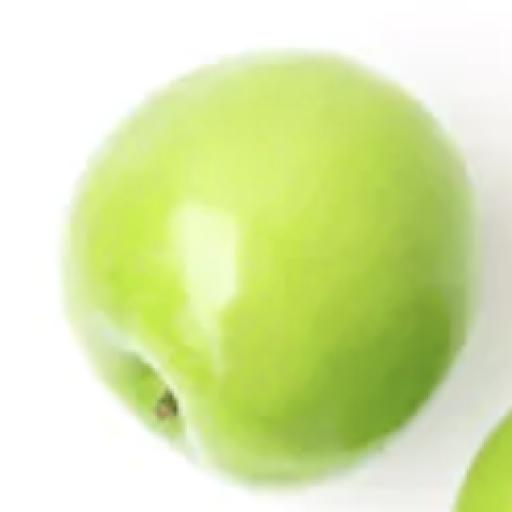apple: (65, 53, 473, 482), (457, 414, 511, 511)
